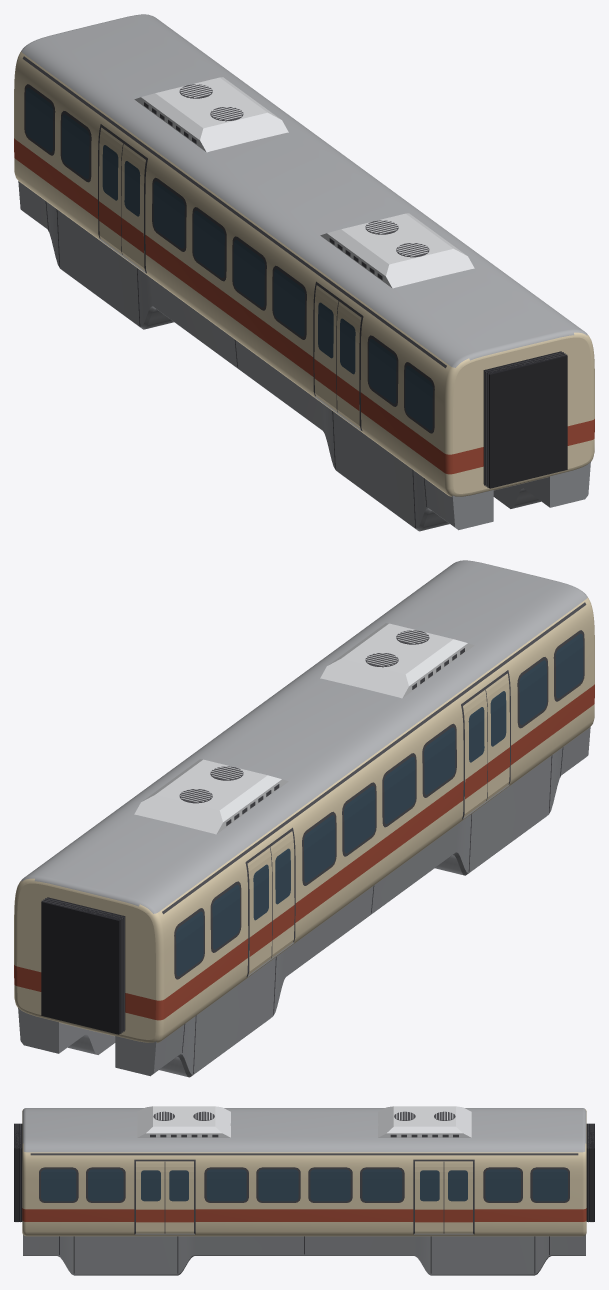
Rendered from 323_close.fbx.
The picture shows the model from 3 angles, top to bottom: view 1: azimuth 30°, elevation 25°; view 2: azimuth 150°, elevation 25°; view 3: azimuth 270°, elevation 25°; orthographic projection. The views are drawn at different scales.
Visible parts, largest first — view 1: 323_close; view 2: 323_close; view 3: 323_close.
Part boxes in pixels (x1=…): 323_close: x1=14, y1=14, x2=594, y2=531; 323_close: x1=14, y1=560, x2=594, y2=1077; 323_close: x1=14, y1=1106, x2=594, y2=1275.
Bounding box in the file's own units: 2.72 × 3.71 × 14.
